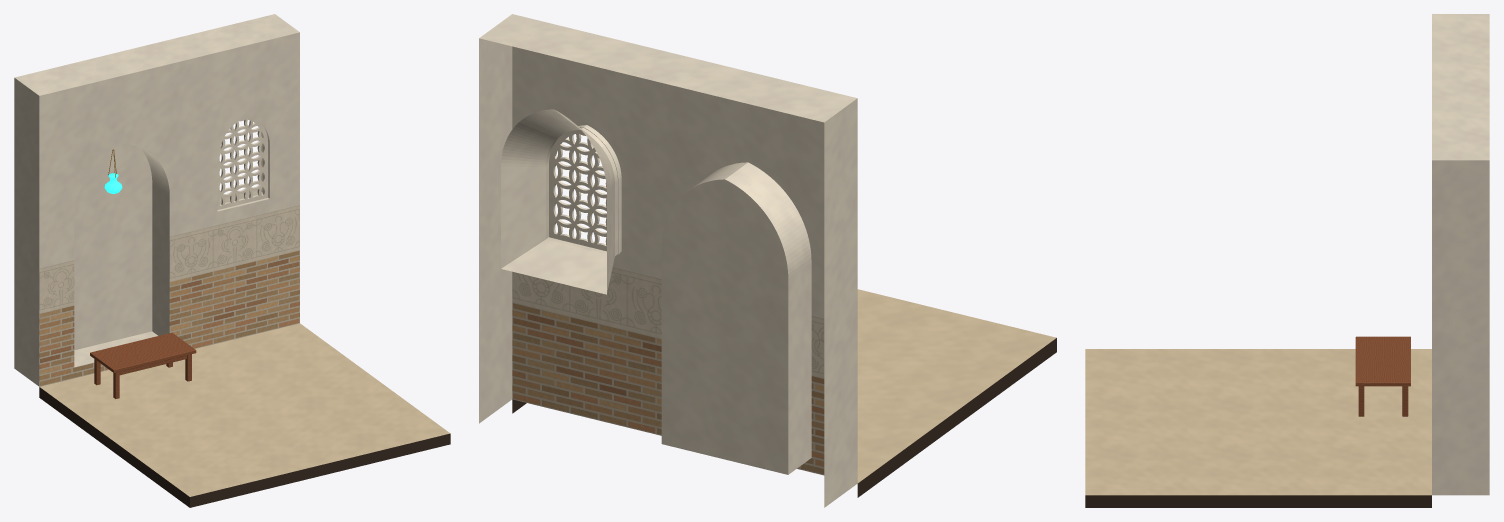
File: corner.webp.glb
3 views of the same model, side by side, from view 1: azimuth 30°, elevation 25°; view 2: azimuth 150°, elevation 25°; view 3: azimuth 270°, elevation 25° (orthographic). The views are drawn at different scales.
Visible parts, largest first — view 1: Corner; view 2: Corner; view 3: Corner.
Boxes of the visible parts, x1=… form: Corner: x1=14, y1=14, x2=450, y2=507; Corner: x1=479, y1=14, x2=1056, y2=507; Corner: x1=1085, y1=14, x2=1489, y2=507.
Size of the model in its own units: 3 by 3.32 by 3.5.
Materials: 8 (5 with a texture image).
